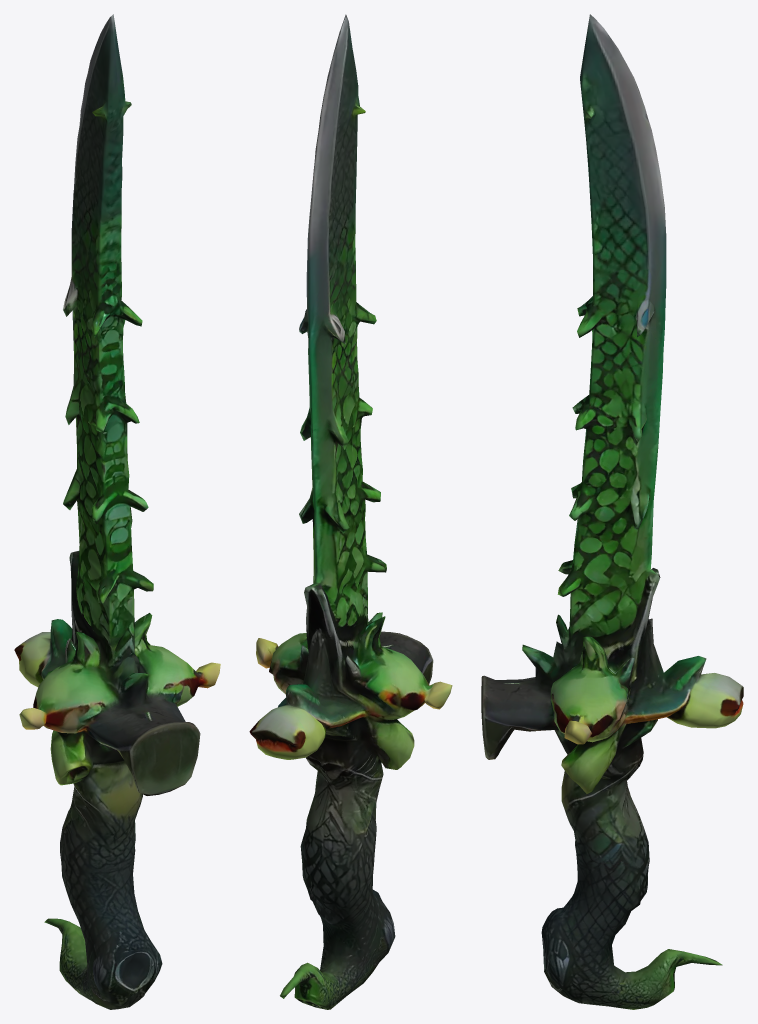
Rendered from wpn_viperblade.glb.
3 renders of one model, left to right at view 1: azimuth 30°, elevation 25°; view 2: azimuth 150°, elevation 25°; view 3: azimuth 270°, elevation 25°, orthographic. The views are drawn at different scales.
Visible parts, largest first — view 1: tripo_node_a7a60d7c-e808-4f6a-a8e2-05b5190b22f4; view 2: tripo_node_a7a60d7c-e808-4f6a-a8e2-05b5190b22f4; view 3: tripo_node_a7a60d7c-e808-4f6a-a8e2-05b5190b22f4.
Part boxes in pixels (box(x1,y1,x2,y2)): tripo_node_a7a60d7c-e808-4f6a-a8e2-05b5190b22f4: box(14, 14, 220, 1009); tripo_node_a7a60d7c-e808-4f6a-a8e2-05b5190b22f4: box(249, 14, 452, 1009); tripo_node_a7a60d7c-e808-4f6a-a8e2-05b5190b22f4: box(481, 14, 743, 1009).
Size of the model in its own units: 0.2081 by 1 by 0.2399.
1 material, 1 textured.
